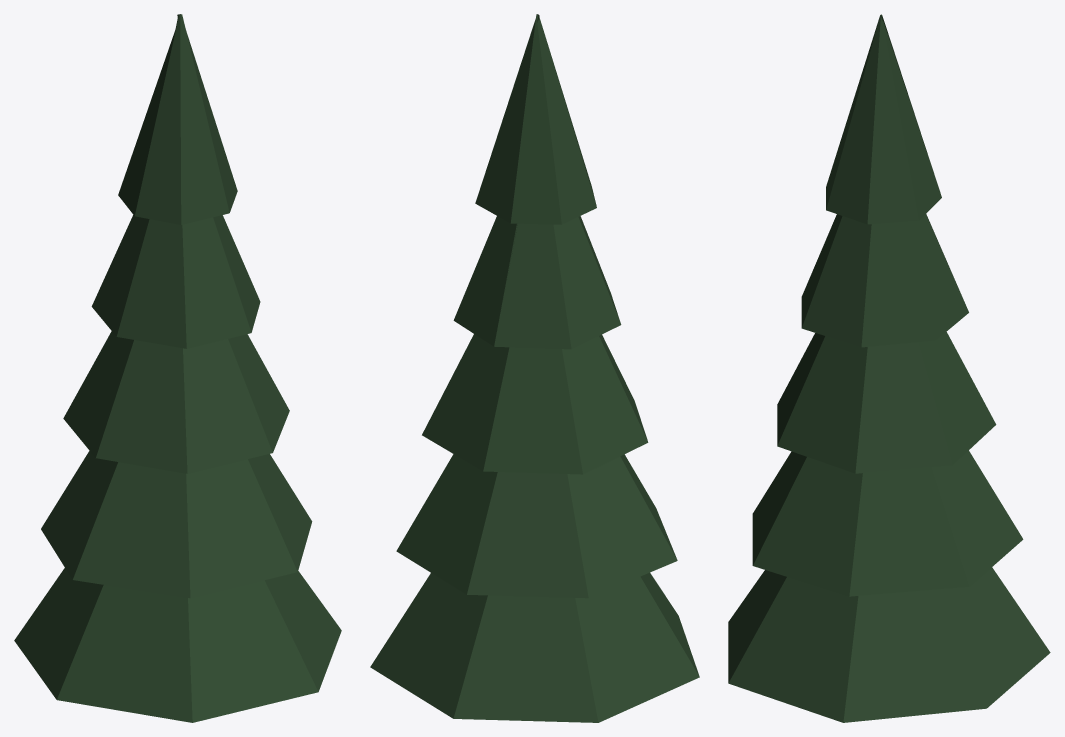
File: fir_far_b.glb
3 renders of one model, left to right at view 1: azimuth 30°, elevation 25°; view 2: azimuth 150°, elevation 25°; view 3: azimuth 270°, elevation 25°, orthographic.
Parts seen in each view (by area): view 1: fir_far_b; view 2: fir_far_b; view 3: fir_far_b.
Boxes of the visible parts, x1,y1,x2,y2 form: fir_far_b: (14,14,341,722); fir_far_b: (370,14,699,722); fir_far_b: (728,14,1050,722).
Size of the model in its own units: 6.61 by 14.12 by 6.46.
